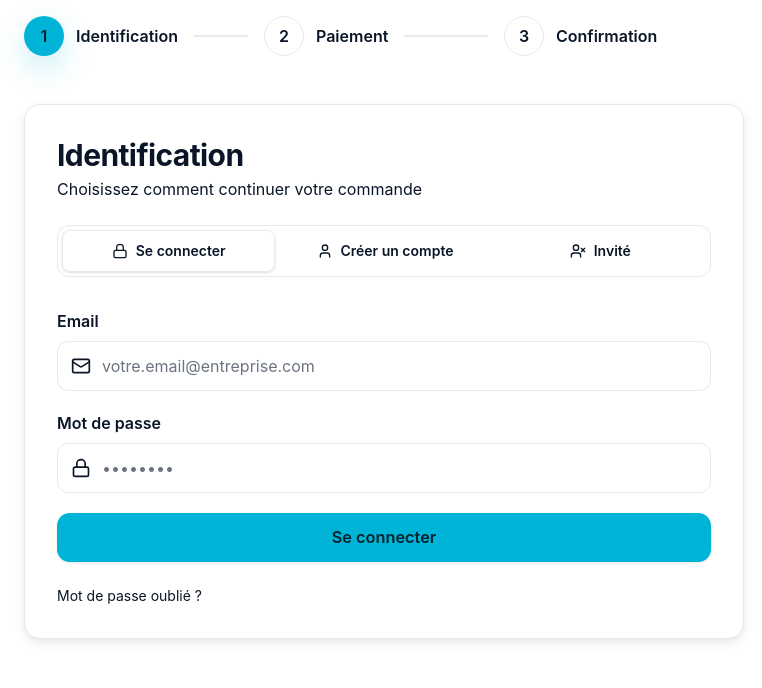
Test case: onglet connexion › affiche le message d'erreur en cas d'échec
In the field with placeholder "votre.email@entreprise.com": (384, 366) [57,341,711,391], type "bad@x.fr"
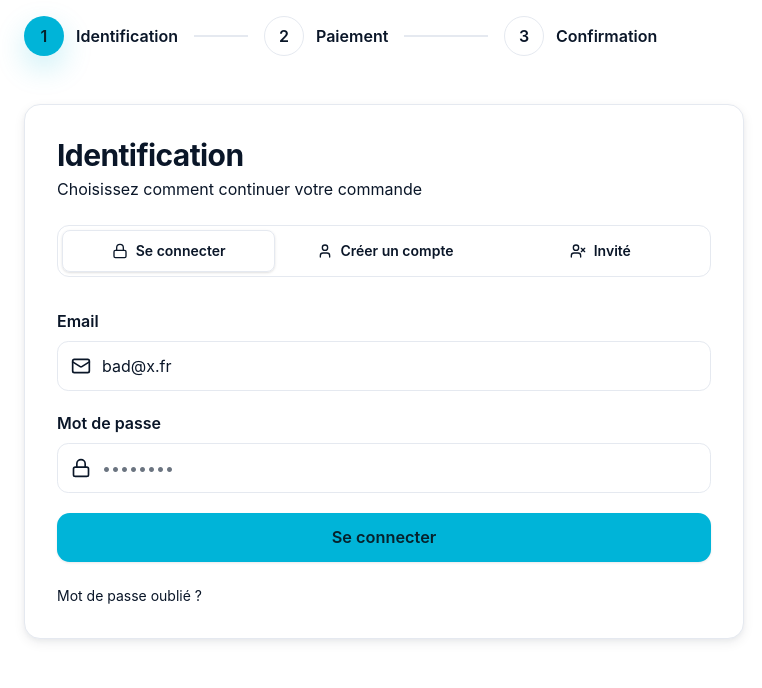
In the password field with placeholder "••••••••": (384, 468) [57,443,711,493], type "wrong"
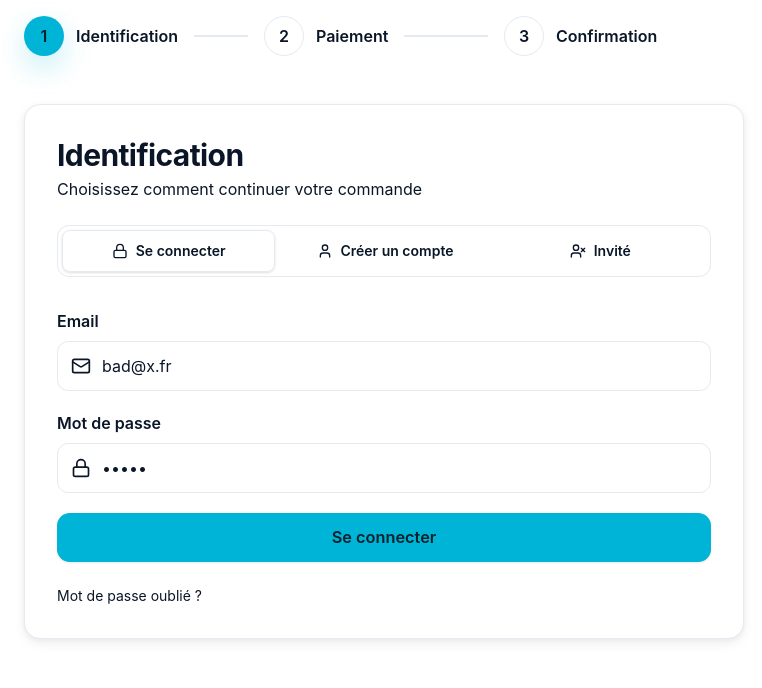
Submit the form with placeholder "votre.email@entreprise", box [57,309,711,606]
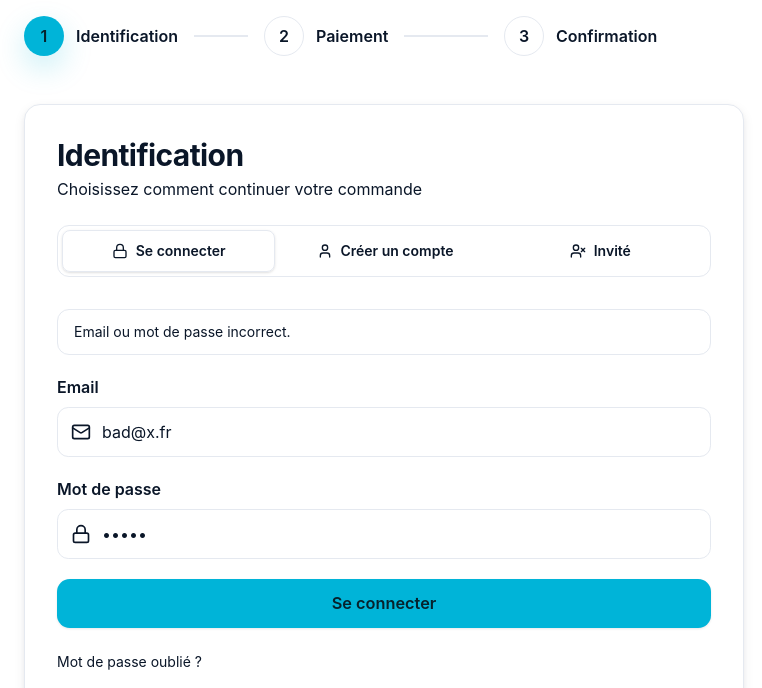
Check: the text "Email ou mot de passe incorrect." is shown, box [57,309,711,355]
